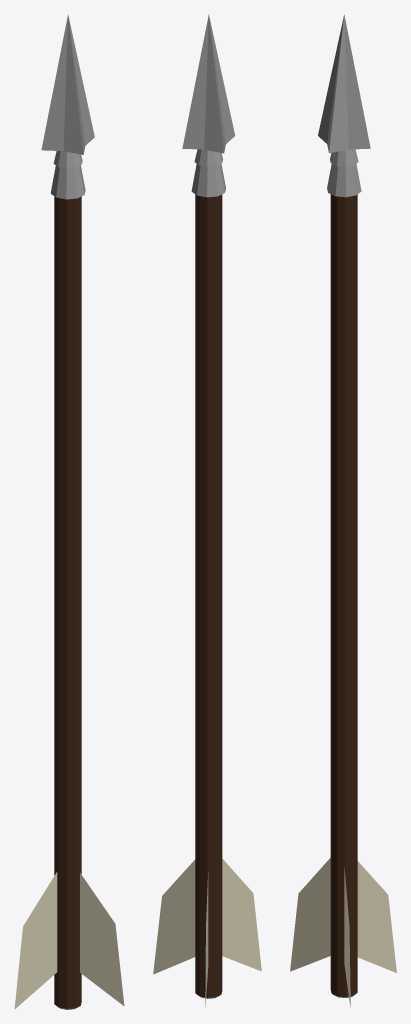
Rendered from SMLBolt.fbx.
The picture shows the model from 3 angles, left to right: view 1: azimuth 30°, elevation 25°; view 2: azimuth 210°, elevation 25°; view 3: azimuth 330°, elevation 25°; orthographic projection.
Parts seen in each view (by area): view 1: SMLBolt; view 2: SMLBolt; view 3: SMLBolt.
Part boxes in pixels (left/top/right/bottom): SMLBolt: left=14, top=14, right=124, bottom=1009; SMLBolt: left=153, top=14, right=261, bottom=1007; SMLBolt: left=290, top=15, right=396, bottom=1007.
Size of the model in its own units: 7.09 by 78.25 by 7.12.
